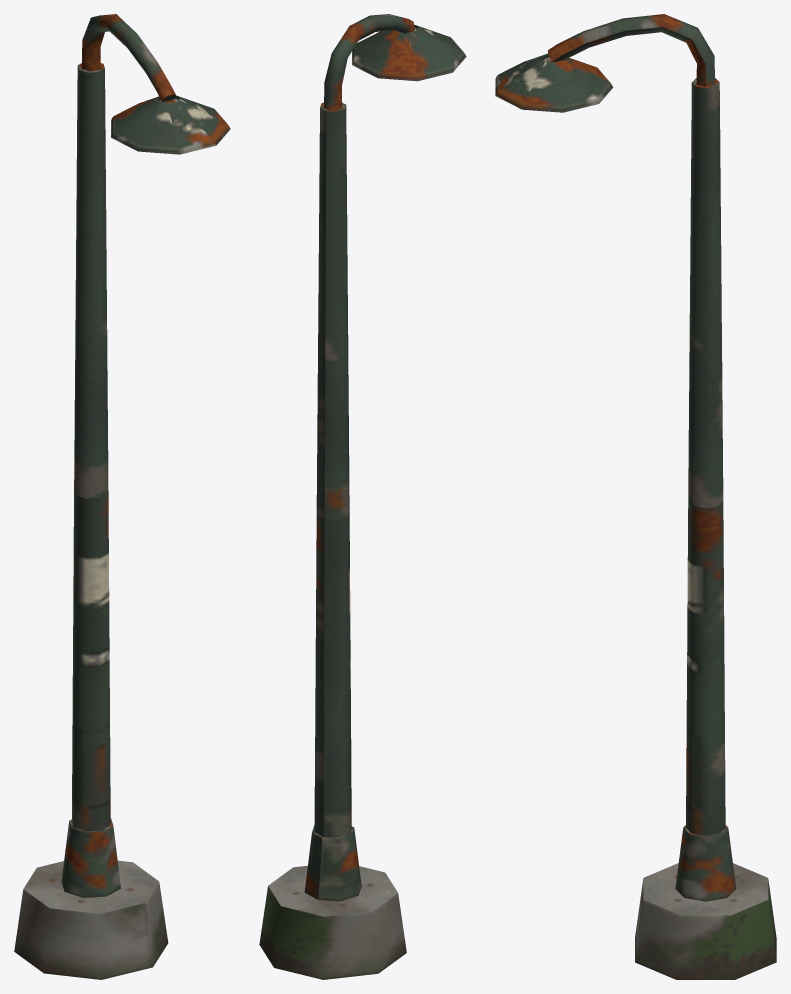
File: street_lamp.obj
The picture shows the model from 3 angles, left to right: view 1: azimuth 30°, elevation 25°; view 2: azimuth 150°, elevation 25°; view 3: azimuth 270°, elevation 25°; orthographic projection. The views are drawn at different scales.
Visible parts, largest first — view 1: street_lamp; view 2: street_lamp; view 3: street_lamp.
Part boxes in pixels (<box>): street_lamp: <box>14,14,230,979</box>; street_lamp: <box>259,14,466,979</box>; street_lamp: <box>495,14,776,979</box>.
Bounding box in the file's own units: 0.6282 × 4.58 × 1.25.
Materials: 2 (2 with a texture image).
